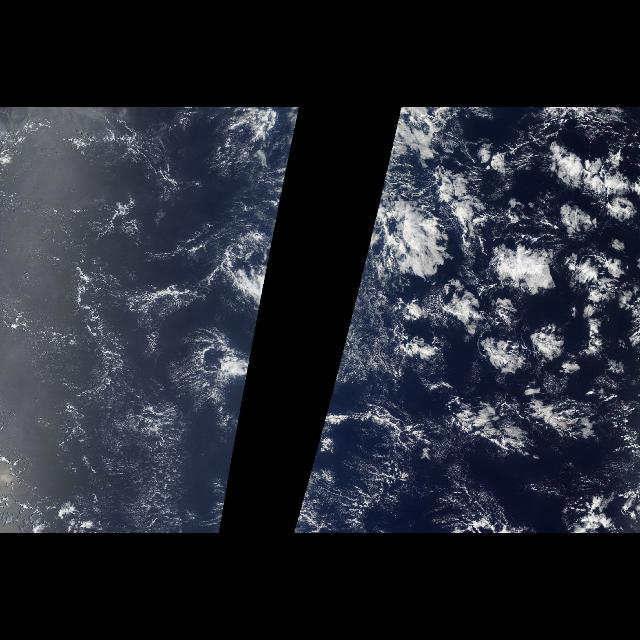Flower: (349, 125, 639, 461)
Sugar: (0, 110, 232, 532), (306, 273, 408, 519)
